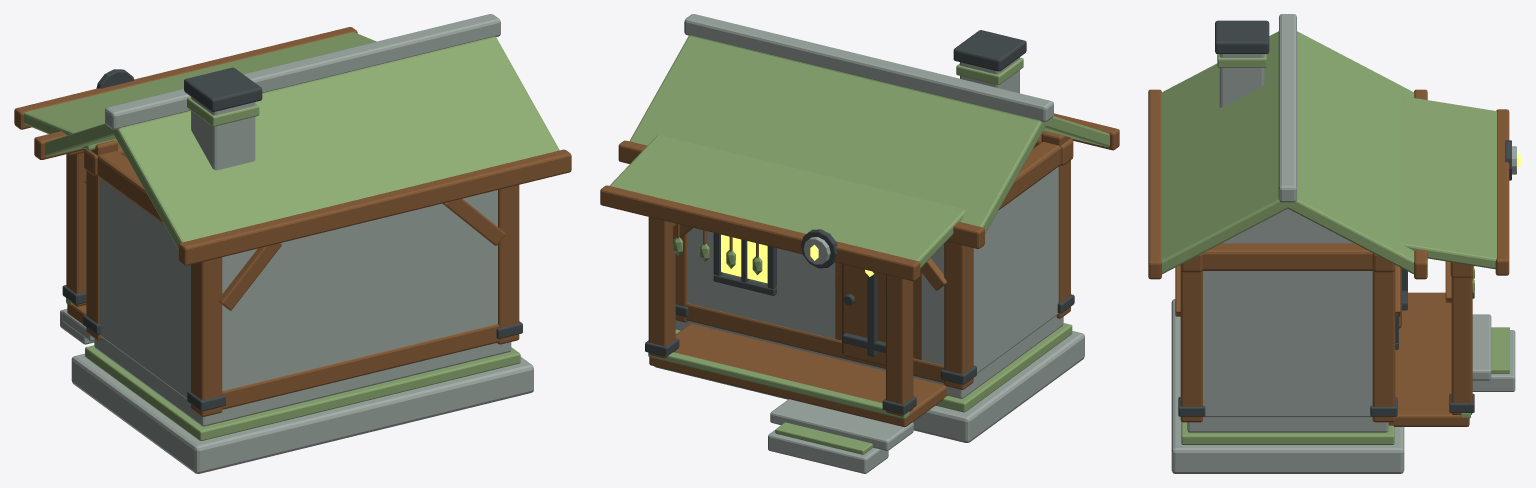
File: SM_EmbermereFenwatchNorthCottage_01.fbx
The picture shows the model from 3 angles, left to right: view 1: azimuth 30°, elevation 25°; view 2: azimuth 150°, elevation 25°; view 3: azimuth 270°, elevation 25°; orthographic projection. The views are drawn at different scales.
Visible parts, largest first — view 1: SM_EmbermereFenwatchNorthCottage_01; view 2: SM_EmbermereFenwatchNorthCottage_01; view 3: SM_EmbermereFenwatchNorthCottage_01.
Boxes of the visible parts, bbox=[...] form: SM_EmbermereFenwatchNorthCottage_01: bbox=[14, 14, 571, 473]; SM_EmbermereFenwatchNorthCottage_01: bbox=[600, 14, 1119, 473]; SM_EmbermereFenwatchNorthCottage_01: bbox=[1148, 14, 1521, 473].
Size of what is drawn, in the model's own units: 550 by 497 by 472.
